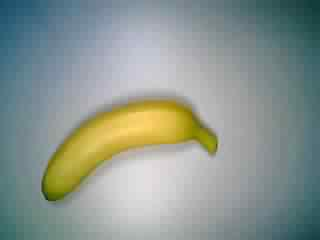banana: (39, 101, 221, 205)
